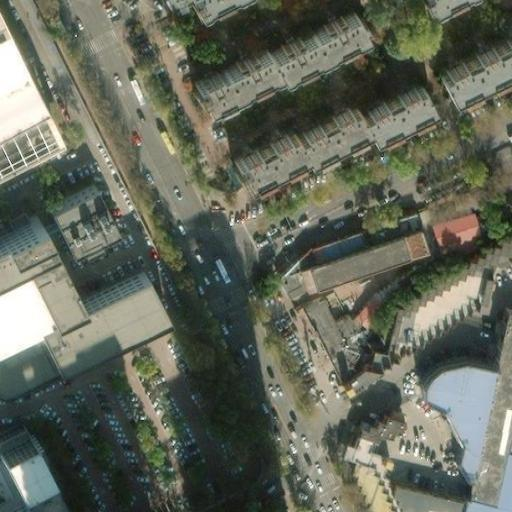building: (225, 76, 425, 178), (0, 288, 162, 397), (186, 7, 358, 107), (466, 306, 512, 505), (416, 363, 487, 488), (292, 226, 422, 290), (348, 255, 432, 327), (429, 25, 512, 91), (44, 190, 116, 261), (340, 397, 410, 470), (452, 449, 512, 512), (423, 205, 477, 252), (0, 212, 44, 262), (382, 489, 454, 512), (495, 142, 512, 176), (162, 0, 190, 14)
